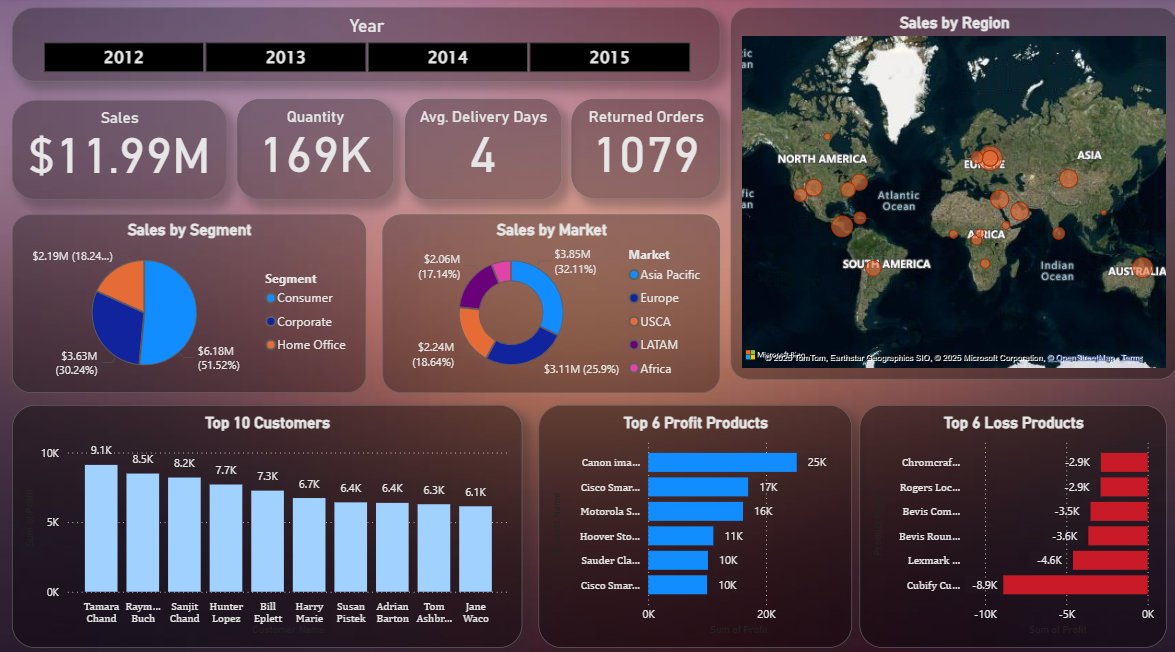

The page's visual inventory and layout, read from the dashboard file:
{"tool":"powerbi","page":{"name":"Page 1","canvas":[1280,720],"ordinal":0},"visuals":[{"type":"card","title":"Sales","fields":{"Values":["Sum(Orders.Sales)"]},"box":[16.3,112.2,232.6,107.4],"z":0},{"type":"card","title":"Quantity","fields":{"Values":["Sum(Orders.Quantity)"]},"box":[260.2,110.6,169.2,109],"z":1000},{"type":"card","title":"Avg. Delivery Days","fields":{"Values":["Avg(Orders.Delivery Days)"]},"box":[442.4,110.6,169.2,109],"z":2000},{"type":"slicer","title":"Year","fields":{"Values":["Orders.Year"]},"box":[16.3,11.4,767.7,79.7],"z":3000},{"type":"card","title":"Returned Orders","fields":{"Values":["Sum(Returns.Return Orders)"]},"box":[623,110.6,161,107.4],"z":4000},{"type":"map","title":"Sales by Region","fields":{"Category":["Orders.Region"],"Size":["Sum(Orders.Sales)"]},"box":[795.4,11.4,484.7,403.4],"z":5000},{"type":"clusteredBarChart","title":"Top 6 Profit Products ","fields":{"Y":["Sum(Orders.Profit)"],"Category":["Orders.Product Name"]},"box":[587.2,442.4,339.9,263.5],"z":6000},{"type":"clusteredBarChart","title":"Top 6 Loss Products","fields":{"Y":["Sum(Orders.Profit)"],"Category":["Orders.Product Name"]},"box":[935.3,442.4,333.4,263.5],"z":7000},{"type":"pieChart","title":"Sales by Segment","fields":{"Category":["Orders.Segment"],"Y":["Sum(Orders.Sales)"]},"box":[16.3,235.8,383.9,193.6],"z":8000},{"type":"donutChart","title":"Sales by Market","fields":{"Y":["Sum(Orders.Sales)"],"Category":["Orders.Market"]},"box":[418,235.8,366,193.6],"z":9000},{"type":"columnChart","title":"Top 10 Customers","fields":{"Category":["Orders.Customer Name"],"Y":["Sum(Orders.Profit)"]},"box":[16.3,442.4,553,263.5],"z":9001}]}

Visuals, with their boxes in screenshot pixels (x1, y1, x2, y2), scaled from the page's 1280x720 canvas onto the 1175x652 screenshot:
"Sales" card: crop(15, 102, 228, 199)
"Quantity" card: crop(239, 100, 394, 199)
"Avg. Delivery Days" card: crop(406, 100, 561, 199)
"Year" slicer: crop(15, 10, 720, 82)
"Returned Orders" card: crop(572, 100, 720, 197)
"Sales by Region" map: crop(730, 10, 1174, 376)
"Top 6 Profit Products " clusteredBarChart: crop(539, 401, 851, 639)
"Top 6 Loss Products" clusteredBarChart: crop(859, 401, 1165, 639)
"Sales by Segment" pieChart: crop(15, 214, 367, 389)
"Sales by Market" donutChart: crop(384, 214, 720, 389)
"Top 10 Customers" columnChart: crop(15, 401, 523, 639)
